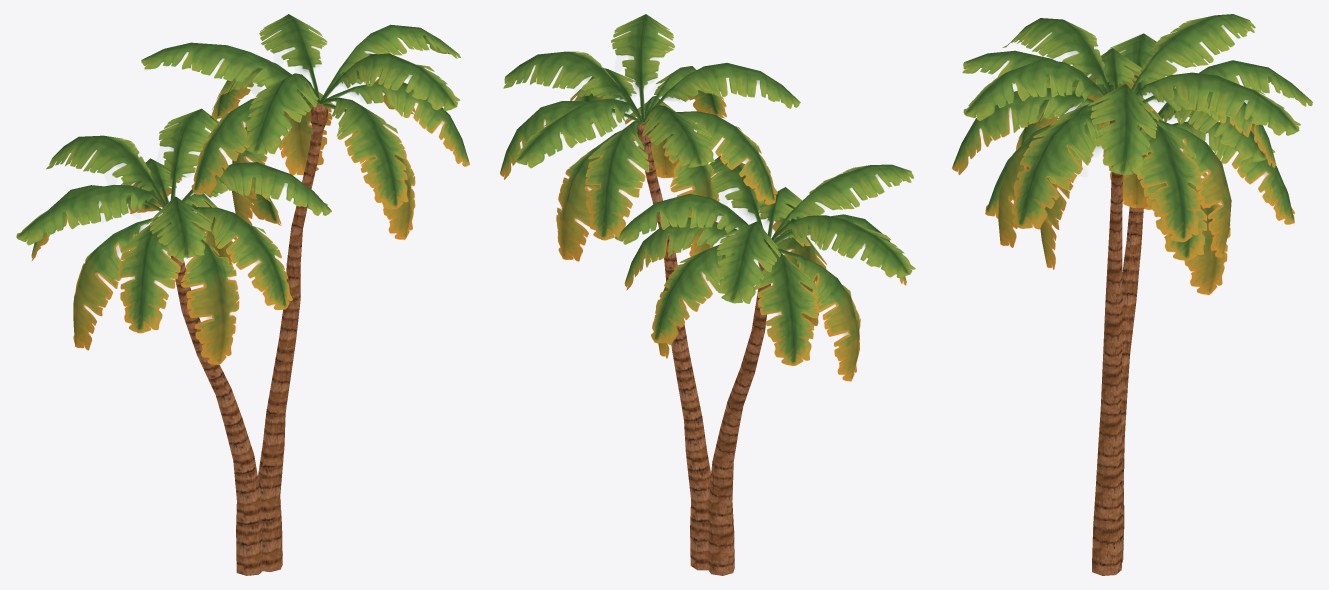
File: second_palm.glb
3 views of the same model, side by side, from view 1: azimuth 30°, elevation 25°; view 2: azimuth 150°, elevation 25°; view 3: azimuth 270°, elevation 25° (orthographic). The views are drawn at different scales.
Parts seen in each view (by area): view 1: Leaf_4, Bark_4_Bark_4_0; view 2: Leaf_4, Bark_4_Bark_4_0; view 3: Leaf_4, Bark_4_Bark_4_0.
Part boxes in pixels (x1,y1,x2,y2): Leaf_4: (16,14,469,365); Bark_4_Bark_4_0: (168,103,327,575); Leaf_4: (500,14,915,381); Bark_4_Bark_4_0: (637,123,770,575); Leaf_4: (952,14,1312,294); Bark_4_Bark_4_0: (1092,119,1149,575).
Bounding box in the file's own units: 4.7 × 5.33 × 3.14.
4 materials, 4 textured.
